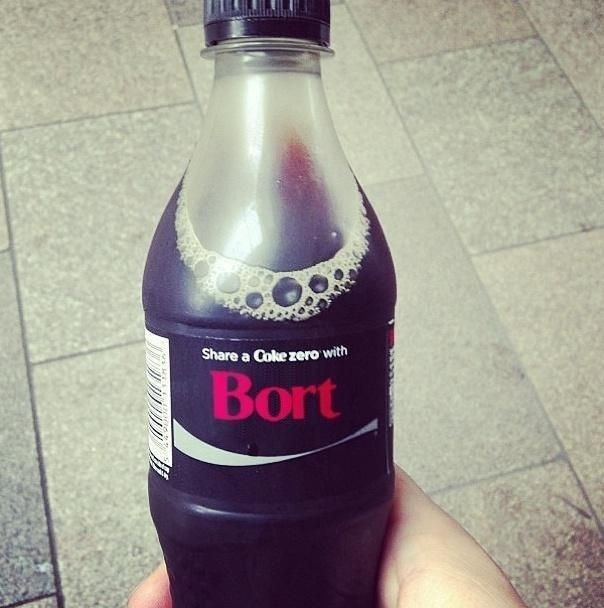bottle-plastic: (138, 1, 404, 607)
